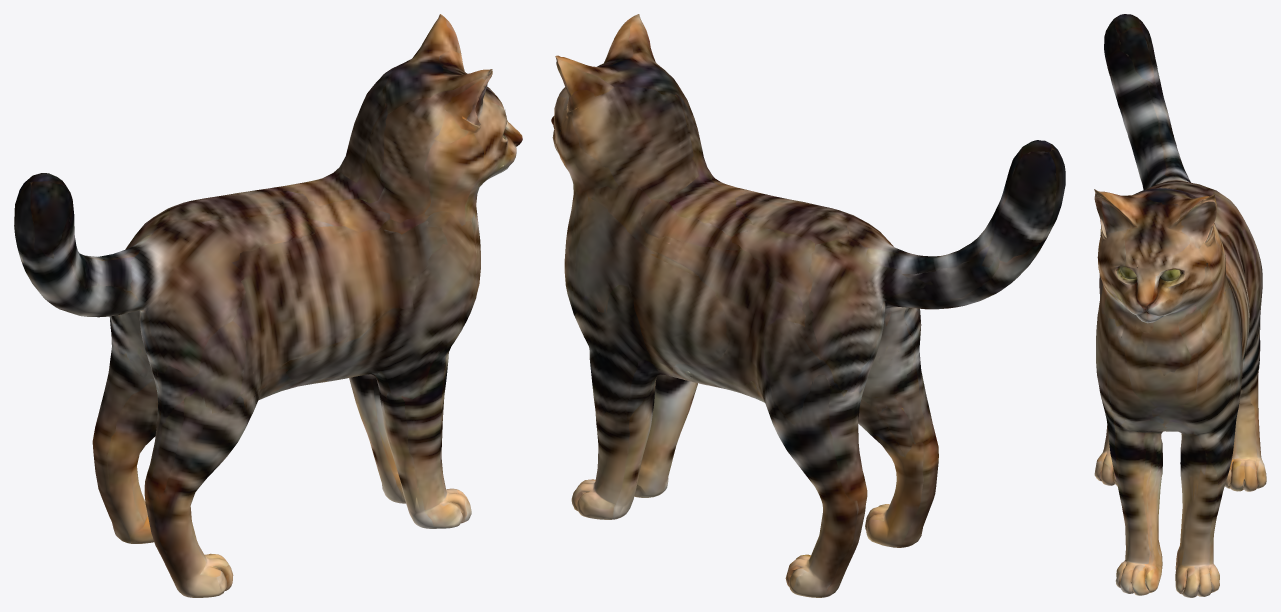
File: GLICAT-lo.glb
The picture shows the model from 3 angles, left to right: view 1: azimuth 30°, elevation 25°; view 2: azimuth 150°, elevation 25°; view 3: azimuth 270°, elevation 25°; orthographic projection. The views are drawn at different scales.
Parts seen in each view (by area): view 1: fit; view 2: fit; view 3: fit.
Boxes of the visible parts, x1,y1,x2,y2 form: fit: [14, 14, 522, 597]; fit: [551, 14, 1065, 597]; fit: [1094, 14, 1266, 597].
Bounding box in the file's own units: 1.15 × 0.999 × 0.3807.
Materials: 1 (1 with a texture image).
